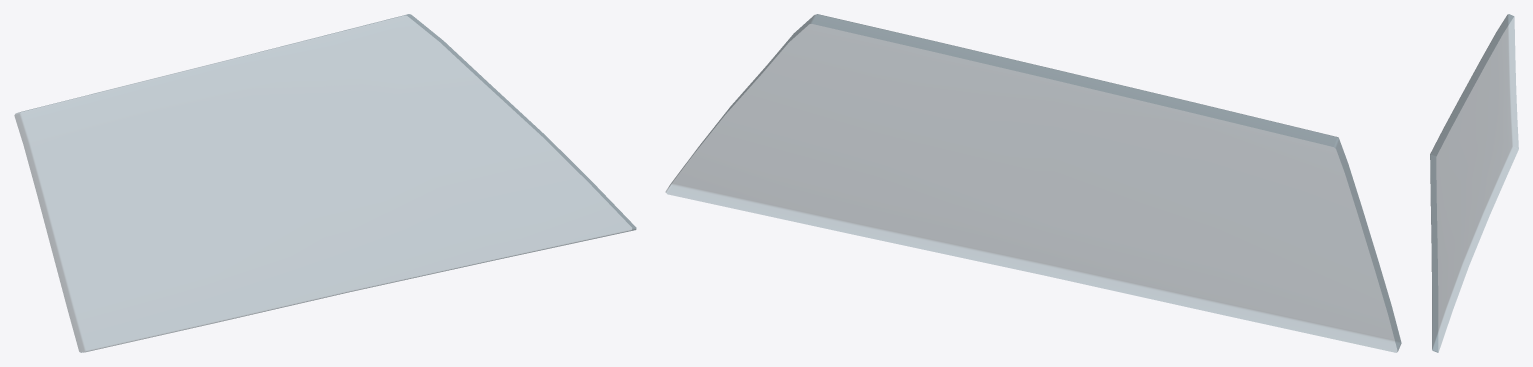
3 views of the same model, side by side, from view 1: azimuth 30°, elevation 25°; view 2: azimuth 150°, elevation 25°; view 3: azimuth 270°, elevation 25° (orthographic). The views are drawn at different scales.
Visible parts, largest first — view 1: SM_MiniCooper_Door_FR_Glass_Ext1; view 2: SM_MiniCooper_Door_FR_Glass_Ext1; view 3: SM_MiniCooper_Door_FR_Glass_Ext1.
Boxes of the visible parts, x1,y1,x2,y2 form: SM_MiniCooper_Door_FR_Glass_Ext1: (14,14,636,352); SM_MiniCooper_Door_FR_Glass_Ext1: (666,14,1401,352); SM_MiniCooper_Door_FR_Glass_Ext1: (1430,14,1518,352).
Size of the model in its own units: 1.22 by 0.4503 by 0.2412.
